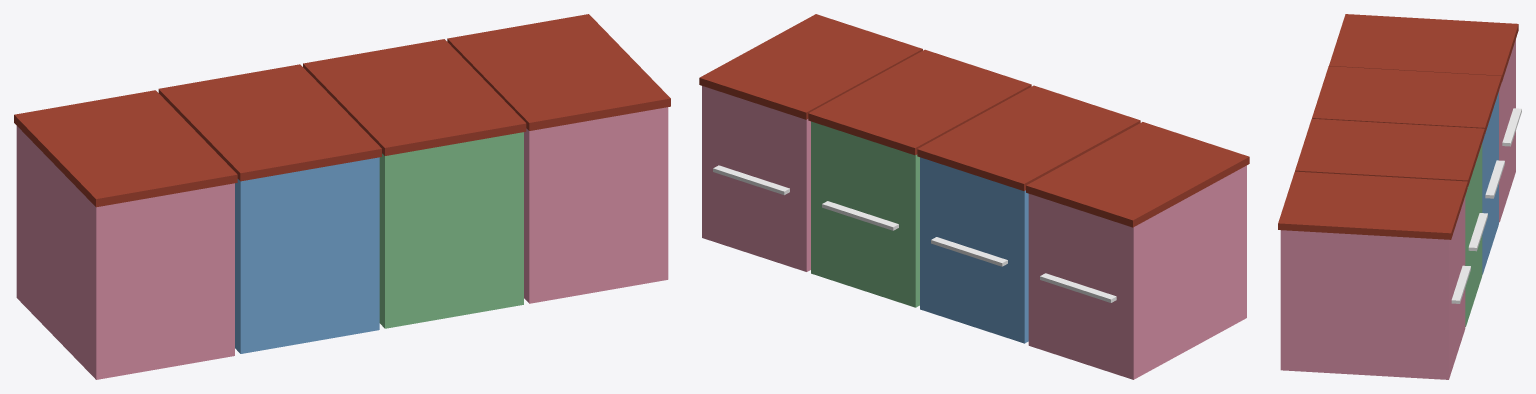
File: pb_townhouses.glb
3 views of the same model, side by side, from view 1: azimuth 30°, elevation 25°; view 2: azimuth 150°, elevation 25°; view 3: azimuth 270°, elevation 25° (orthographic). The views are drawn at different scales.
Parts seen in each view (by area): view 1: pb_townhouses_lod0; view 2: pb_townhouses_lod0; view 3: pb_townhouses_lod0.
Part boxes in pixels (box(x1,y1,x2,y2)): pb_townhouses_lod0: box(14, 14, 670, 379); pb_townhouses_lod0: box(699, 14, 1249, 379); pb_townhouses_lod0: box(1278, 14, 1521, 379).
Size of what is drawn, in the model's own units: 21.48 by 6.74 by 10.05.
